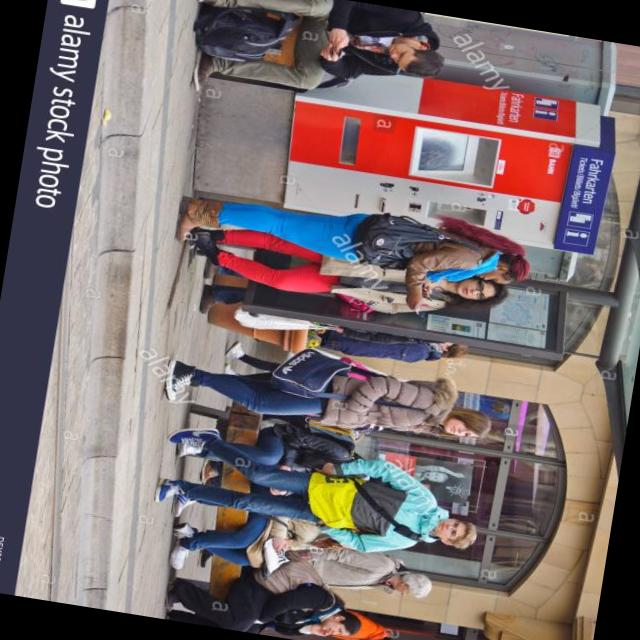bareface: (471, 264, 513, 288), (381, 43, 422, 67), (440, 417, 477, 442), (428, 516, 466, 540), (454, 278, 490, 302), (383, 580, 420, 600), (314, 620, 354, 638)
